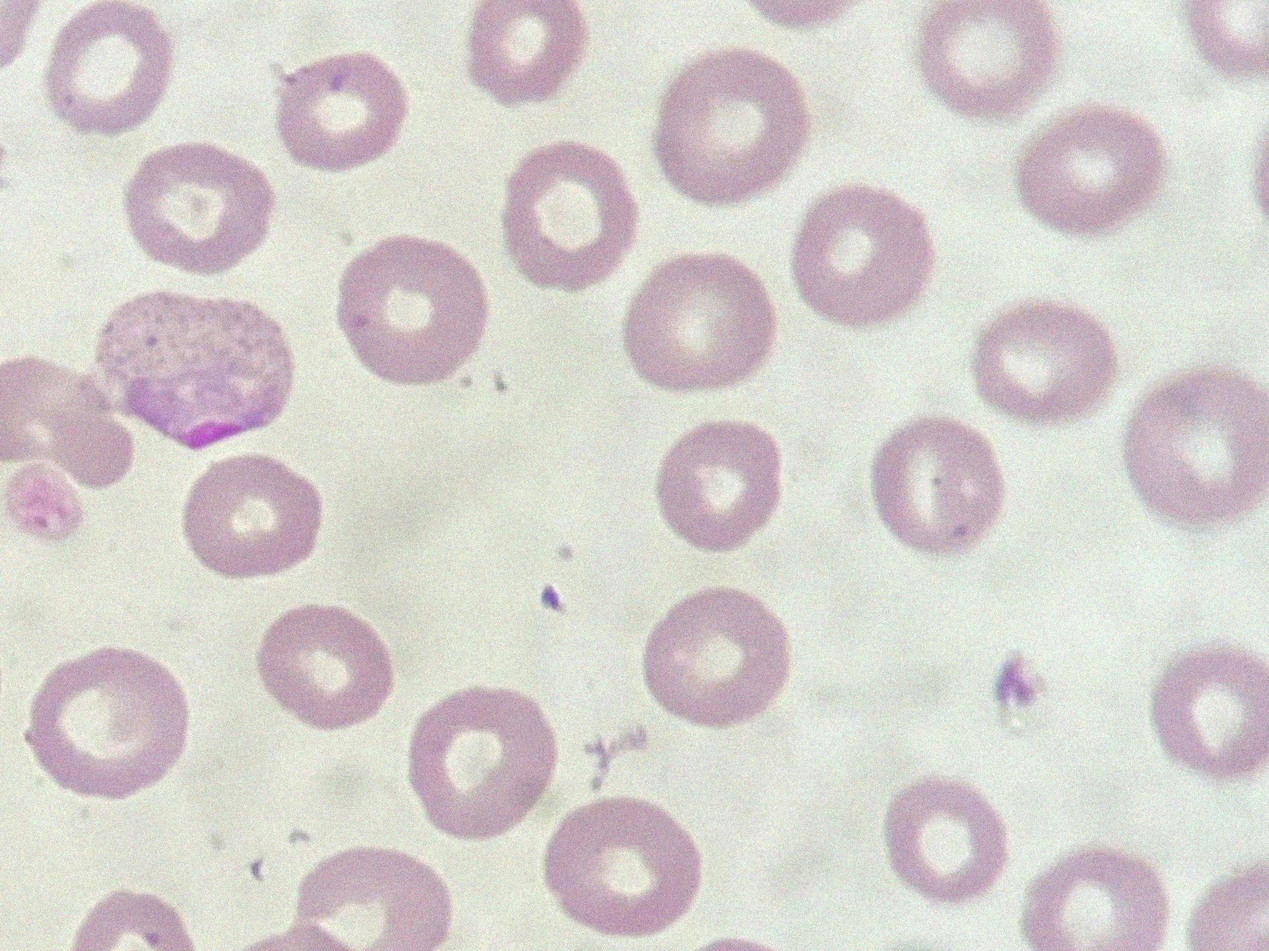Infected: (97, 291, 292, 447)
Uninfected: (25, 648, 189, 798), (657, 52, 811, 203), (1128, 366, 1269, 524), (407, 689, 557, 837), (336, 235, 487, 382), (543, 798, 699, 934), (621, 254, 771, 390), (124, 142, 274, 273), (644, 589, 788, 725), (503, 143, 639, 285), (1018, 107, 1167, 235), (792, 188, 931, 324), (0, 353, 137, 489), (974, 298, 1115, 424), (258, 605, 395, 730), (182, 456, 321, 579), (655, 421, 786, 551), (879, 417, 1005, 552), (289, 847, 450, 951), (45, 1, 171, 133), (920, 1, 1056, 116), (882, 778, 1009, 901), (1150, 646, 1269, 777), (276, 54, 408, 171), (1024, 847, 1169, 950), (468, 0, 587, 102)
